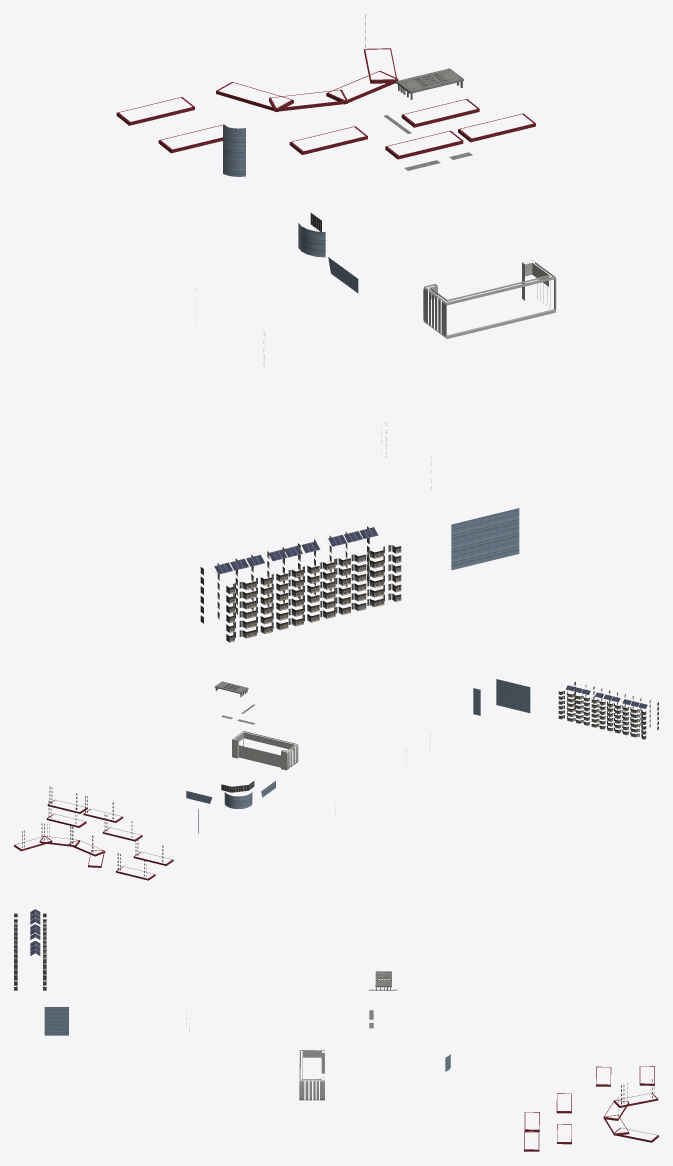
File: NoLod_6.glb
3 renders of one model, top to bottom at view 1: azimuth 30°, elevation 25°; view 2: azimuth 150°, elevation 25°; view 3: azimuth 270°, elevation 25°, orthographic. The views are drawn at different scales.
Visible parts, largest first — view 1: rtc; view 2: rtc; view 3: rtc.
Boxes of the visible parts, bbox=[...] form: rtc: bbox=[116, 15, 556, 642]; rtc: bbox=[14, 679, 658, 880]; rtc: bbox=[14, 909, 658, 1151].
Size of the model in its own units: 558 by 143 by 727.
Materials: 5 (5 with a texture image).
